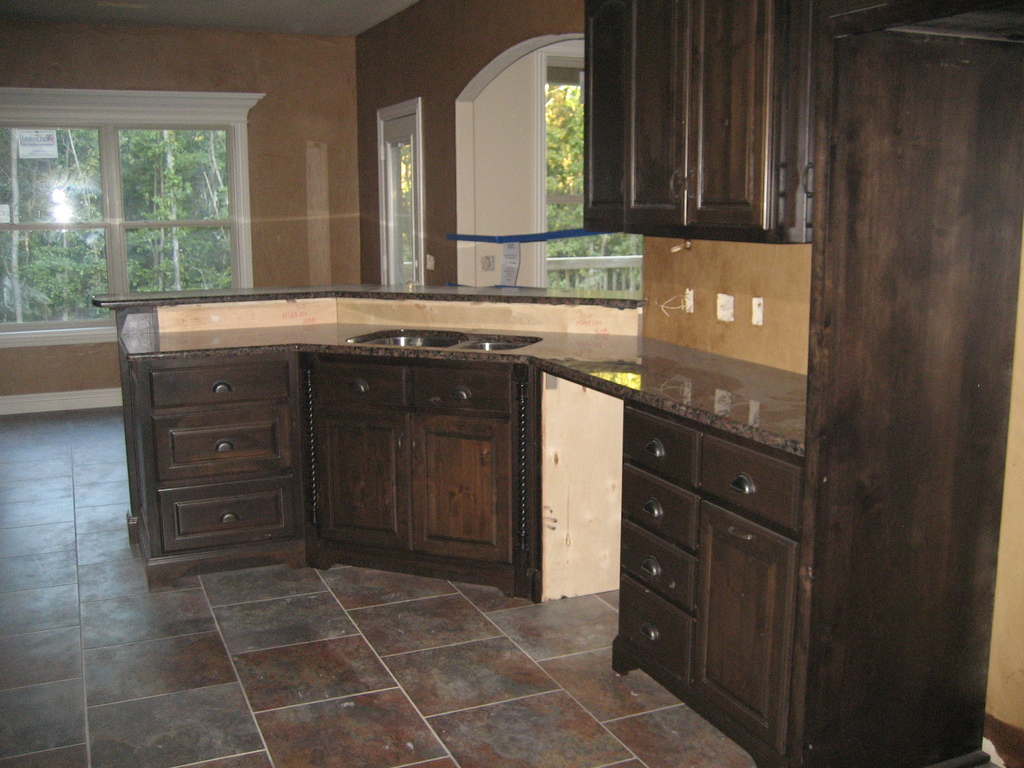cabinet door: (699, 516, 796, 720), (414, 418, 505, 563), (702, 33, 769, 226), (635, 19, 694, 215), (324, 416, 406, 544), (585, 12, 634, 197), (766, 50, 814, 234), (162, 421, 303, 479), (154, 366, 298, 413), (171, 481, 302, 532), (714, 450, 815, 514), (415, 362, 518, 418), (318, 362, 411, 406), (626, 541, 702, 591), (630, 421, 697, 477), (634, 599, 697, 656), (627, 484, 692, 531)
door: (390, 123, 425, 278)
handle: (446, 380, 479, 415), (671, 161, 692, 209), (643, 436, 674, 464), (641, 551, 669, 580), (726, 523, 755, 551), (206, 378, 239, 401), (642, 617, 667, 647), (351, 372, 376, 401), (732, 473, 758, 499), (646, 493, 670, 521), (212, 438, 236, 465), (215, 510, 239, 529)
